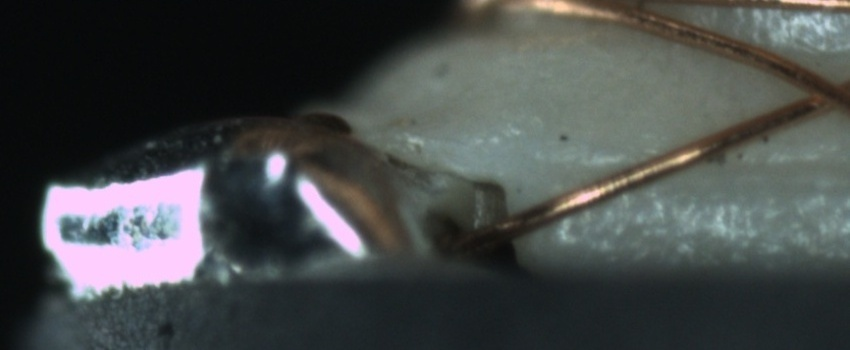CL: (781, 61, 849, 119)
DL: (574, 135, 845, 202)
